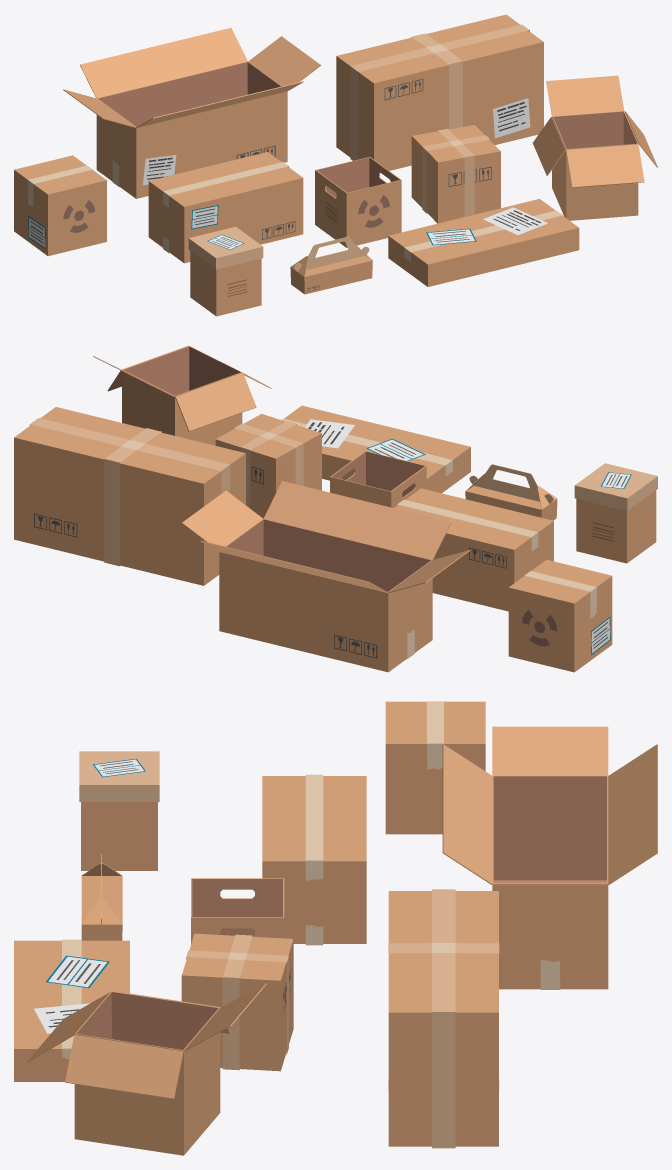
File: Free Pack - Boxes.fbx
3 views of the same model, one above another, from view 1: azimuth 30°, elevation 25°; view 2: azimuth 150°, elevation 25°; view 3: azimuth 270°, elevation 25° (orthographic). The views are drawn at different scales.
Visible parts, largest first — view 1: SM_Boxes_03, SM_Boxes_09, SM_Boxes_02, SM_Boxes_06, SM_Boxes_04, SM_Boxes_10, SM_Boxes_08, SM_Boxes_07, SM_Boxes_05, SM_Boxes_01; view 2: SM_Boxes_03, SM_Boxes_09, SM_Boxes_06, SM_Boxes_10, SM_Boxes_02, SM_Boxes_05, SM_Boxes_04, SM_Boxes_08, SM_Boxes_07, SM_Boxes_01; view 3: SM_Boxes_03, SM_Boxes_09, SM_Boxes_02, SM_Boxes_06, SM_Boxes_08, SM_Boxes_04, SM_Boxes_10, SM_Boxes_05, SM_Boxes_07, SM_Boxes_01.
Part boxes in pixels (left/top/right/bottom): SM_Boxes_03: left=63, top=28, right=320, bottom=198; SM_Boxes_09: left=336, top=14, right=543, bottom=172; SM_Boxes_02: left=533, top=75, right=657, bottom=220; SM_Boxes_06: left=148, top=152, right=303, bottom=263; SM_Boxes_04: left=388, top=199, right=579, bottom=286; SM_Boxes_10: left=14, top=155, right=106, bottom=256; SM_Boxes_08: left=411, top=125, right=500, bottom=223; SM_Boxes_07: left=315, top=157, right=401, bottom=247; SM_Boxes_05: left=188, top=226, right=263, bottom=316; SM_Boxes_01: left=290, top=236, right=372, bottom=294; SM_Boxes_03: left=182, top=481, right=469, bottom=672; SM_Boxes_09: left=14, top=407, right=245, bottom=585; SM_Boxes_06: left=394, top=488, right=553, bottom=611; SM_Boxes_10: left=508, top=559, right=612, bottom=672; SM_Boxes_02: left=93, top=345, right=271, bottom=445; SM_Boxes_05: left=574, top=463, right=657, bottom=563; SM_Boxes_04: left=281, top=405, right=470, bottom=493; SM_Boxes_08: left=215, top=413, right=321, bottom=518; SM_Boxes_07: left=330, top=451, right=426, bottom=507; SM_Boxes_01: left=465, top=464, right=557, bottom=520; SM_Boxes_03: left=442, top=726, right=657, bottom=989; SM_Boxes_09: left=388, top=889, right=499, bottom=1148; SM_Boxes_02: left=27, top=983, right=266, bottom=1155; SM_Boxes_06: left=262, top=774, right=366, bottom=945; SM_Boxes_08: left=181, top=933, right=293, bottom=1071; SM_Boxes_04: left=14, top=939, right=129, bottom=1081; SM_Boxes_10: left=385, top=701, right=485, bottom=834; SM_Boxes_05: left=79, top=751, right=159, bottom=870; SM_Boxes_07: left=191, top=878, right=284, bottom=944; SM_Boxes_01: left=81, top=854, right=122, bottom=940.
Bounding box in the file's own units: 120 × 20.49 × 87.06.
